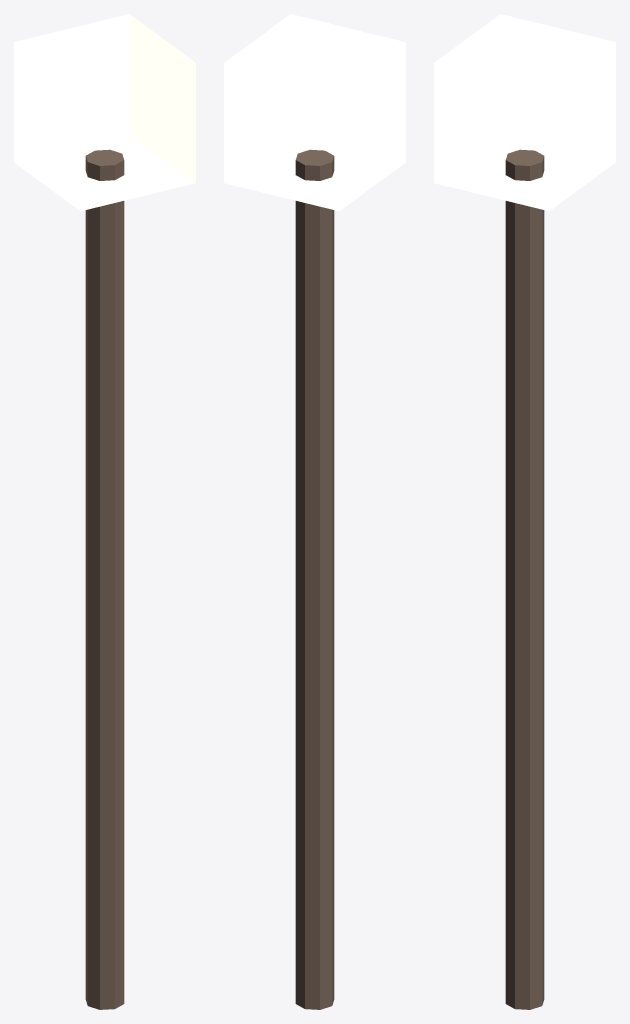
The model's file is lamp.glb.
3 views of the same model, side by side, from view 1: azimuth 30°, elevation 25°; view 2: azimuth 150°, elevation 25°; view 3: azimuth 330°, elevation 25° (orthographic).
Visible parts, largest first — view 1: post, light; view 2: post, light; view 3: post, light.
Part boxes in pixels (x1,y1,x2,y2): post: (85,149,124,1009); light: (14,14,195,211); post: (295,149,334,1009); light: (224,14,405,211); post: (505,149,544,1009); light: (434,14,615,211).
Bounding box in the file's own units: 0.4 × 3.15 × 0.4.
